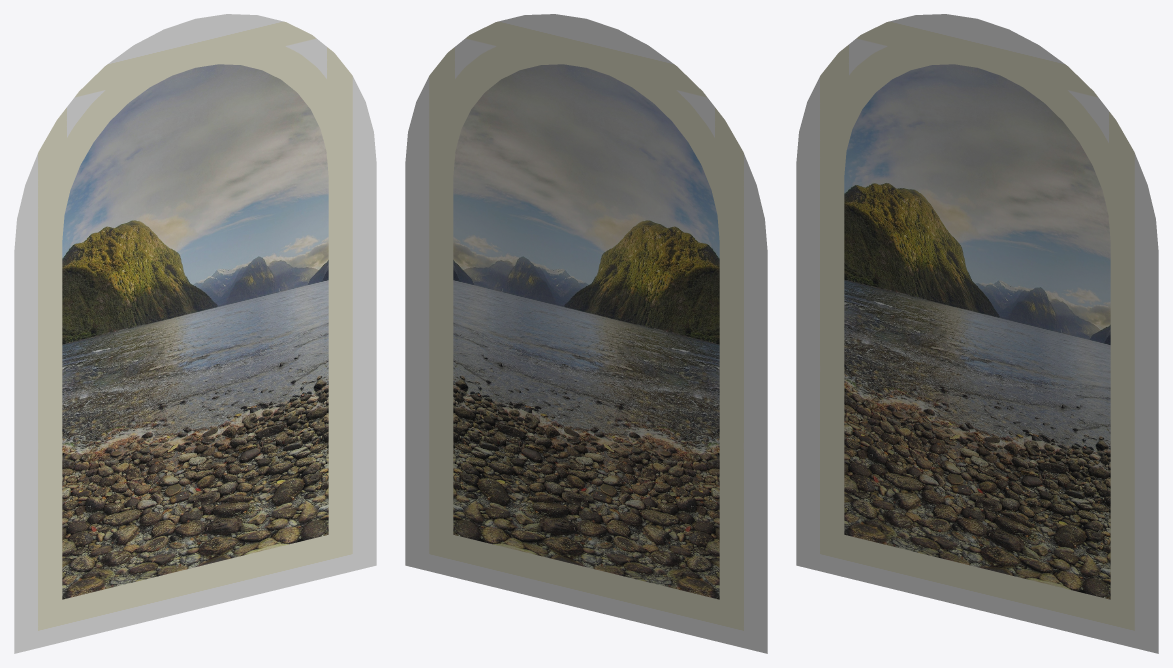
File: door_awakening.glb
3 views of the same model, side by side, from view 1: azimuth 30°, elevation 25°; view 2: azimuth 150°, elevation 25°; view 3: azimuth 330°, elevation 25° (orthographic).
Visible parts, largest first — view 1: door_desert, door_glow; view 2: door_desert, door_glow; view 3: door_desert, door_glow.
Part boxes in pixels (x1,y1,x2,y2): door_desert: [62, 64, 328, 599]; door_glow: [14, 14, 376, 653]; door_desert: [453, 64, 719, 599]; door_glow: [405, 14, 767, 653]; door_desert: [844, 64, 1110, 599]; door_glow: [796, 14, 1158, 653].
Bounding box in the file's own units: 0.9 × 1.4 × 0.
2 materials, 2 textured.
